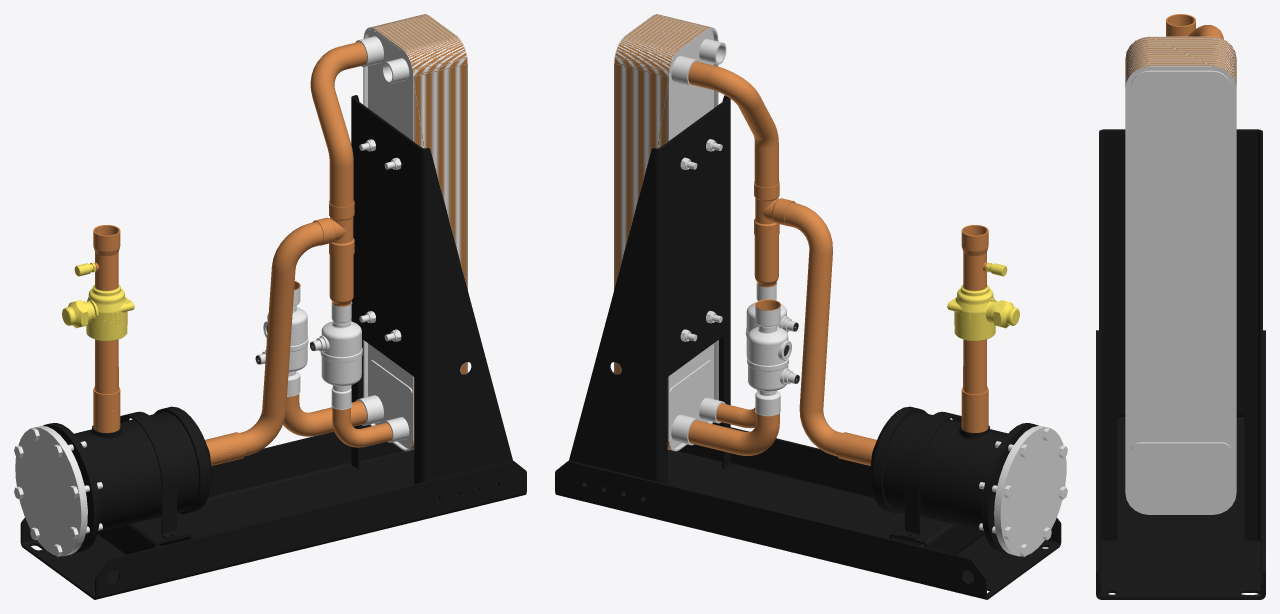
File: Economizer_03.glb
3 views of the same model, side by side, from view 1: azimuth 30°, elevation 25°; view 2: azimuth 150°, elevation 25°; view 3: azimuth 270°, elevation 25° (orthographic). The views are drawn at different scales.
Visible parts, largest first — view 1: Solid1, Solid1.011, Solid1.004, C62-E-38, Solid1.008, Solid1.005, Solid1.006, Solid1.013, Solid1.003, Solid1.012, Solid1.016, Solid1.017 (+3 smaller); view 2: Solid1, Solid1.011, Solid1.004, C62-E-38, Solid1.008, Solid1.005, Solid1.016, Solid1.006, Solid1.017, Solid1.003, Solid1.012, Solid1.007 (+3 smaller); view 3: C62-E-38, Solid1, Solid1.011, Solid1.005, Solid1.012, Solid1.006.
Boxes of the visible parts, <box> form: Solid1: <box>351,95,512,500</box>; Solid1.011: <box>20,431,526,599</box>; Solid1.004: <box>14,387,245,556</box>; C62-E-38: <box>355,14,467,451</box>; Solid1.008: <box>239,221,323,456</box>; Solid1.005: <box>62,225,134,394</box>; Solid1.006: <box>310,42,366,206</box>; Solid1.013: <box>310,301,362,409</box>; Solid1.003: <box>120,411,181,539</box>; Solid1.012: <box>97,516,192,554</box>; Solid1.016: <box>255,281,308,396</box>; Solid1.017: <box>283,394,366,436</box>; Solid1: <box>569,95,730,500</box>; Solid1.011: <box>555,427,1061,599</box>; Solid1.004: <box>836,387,1067,556</box>; C62-E-38: <box>614,14,726,451</box>; Solid1.008: <box>785,202,842,456</box>; Solid1.005: <box>947,225,1019,394</box>; Solid1.016: <box>747,299,799,416</box>; Solid1.006: <box>688,61,778,187</box>; Solid1.017: <box>688,413,779,455</box>; Solid1.003: <box>900,411,961,539</box>; Solid1.012: <box>889,516,984,554</box>; Solid1.007: <box>754,181,795,238</box>; C62-E-38: <box>1125,36,1236,514</box>; Solid1: <box>1099,129,1262,592</box>; Solid1.011: <box>1096,330,1265,599</box>; Solid1.005: <box>1166,14,1195,36</box>; Solid1.012: <box>1117,391,1244,416</box>; Solid1.006: <box>1188,25,1223,39</box>.
Bounding box in the file's own units: 0.2399 × 0.2343 × 0.0709.
6 materials, 1 textured.
